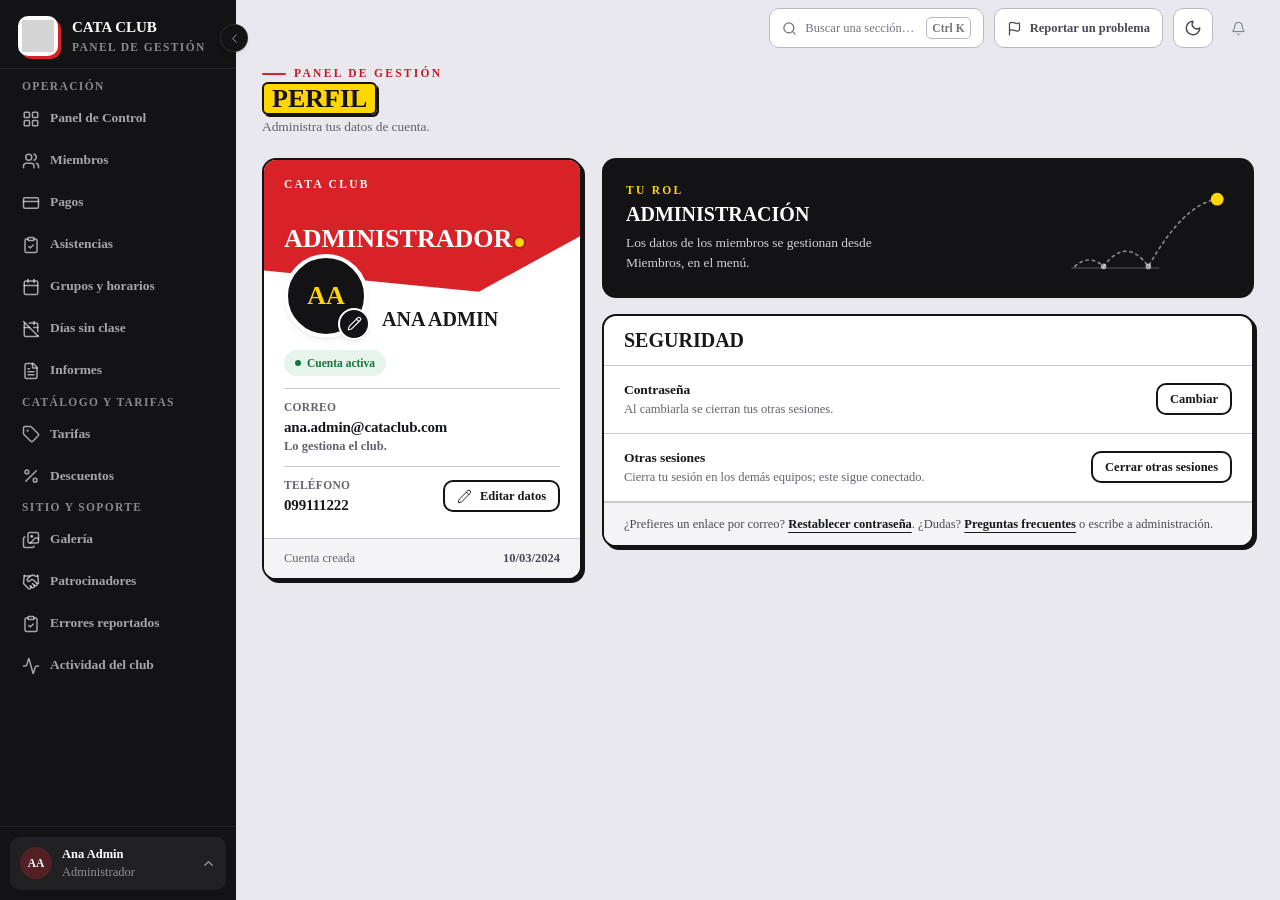
Test: ProfilePage — inline teléfono edit (correo is read-only) › saves a new teléfono and displays the updated value
This screenshot has width=1280, height=900.
Click the button "Editar datos".
click(501, 496)  # box [443,480,560,512]
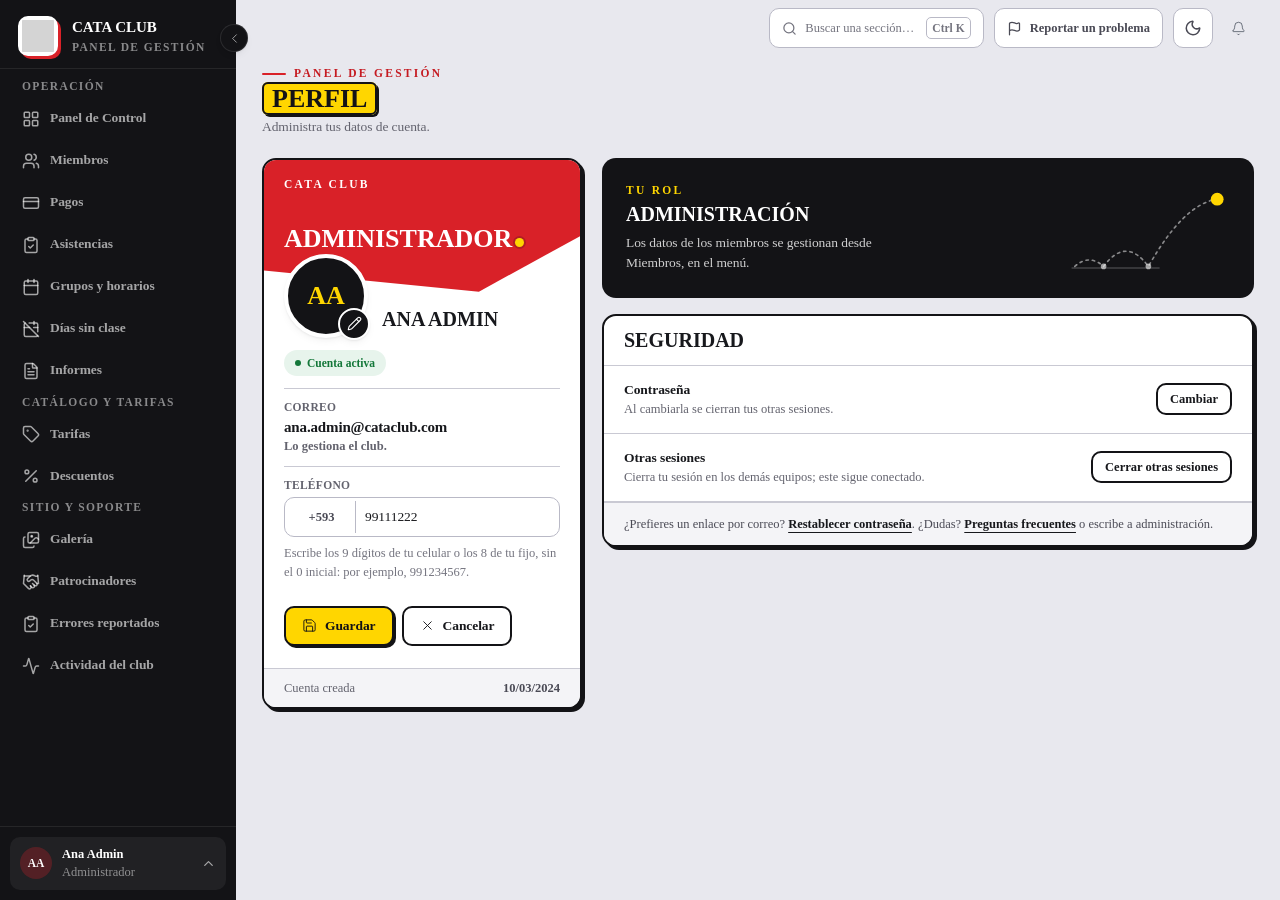
Replace the text in the field named "teléfono" with "0991234567" at (422, 517), box [284,497,560,537]
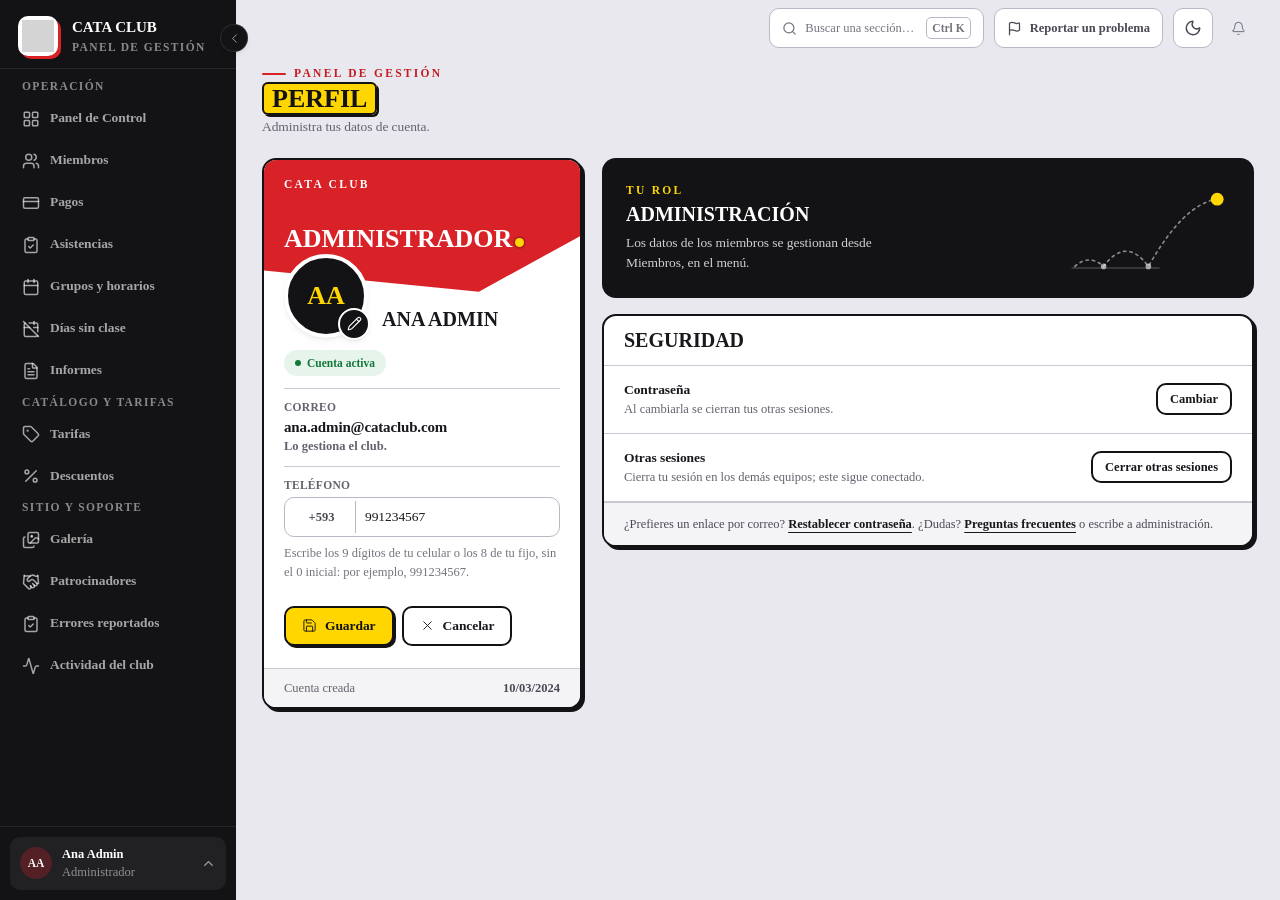
Click the button "Guardar".
click(339, 626)  # box [284,606,394,646]
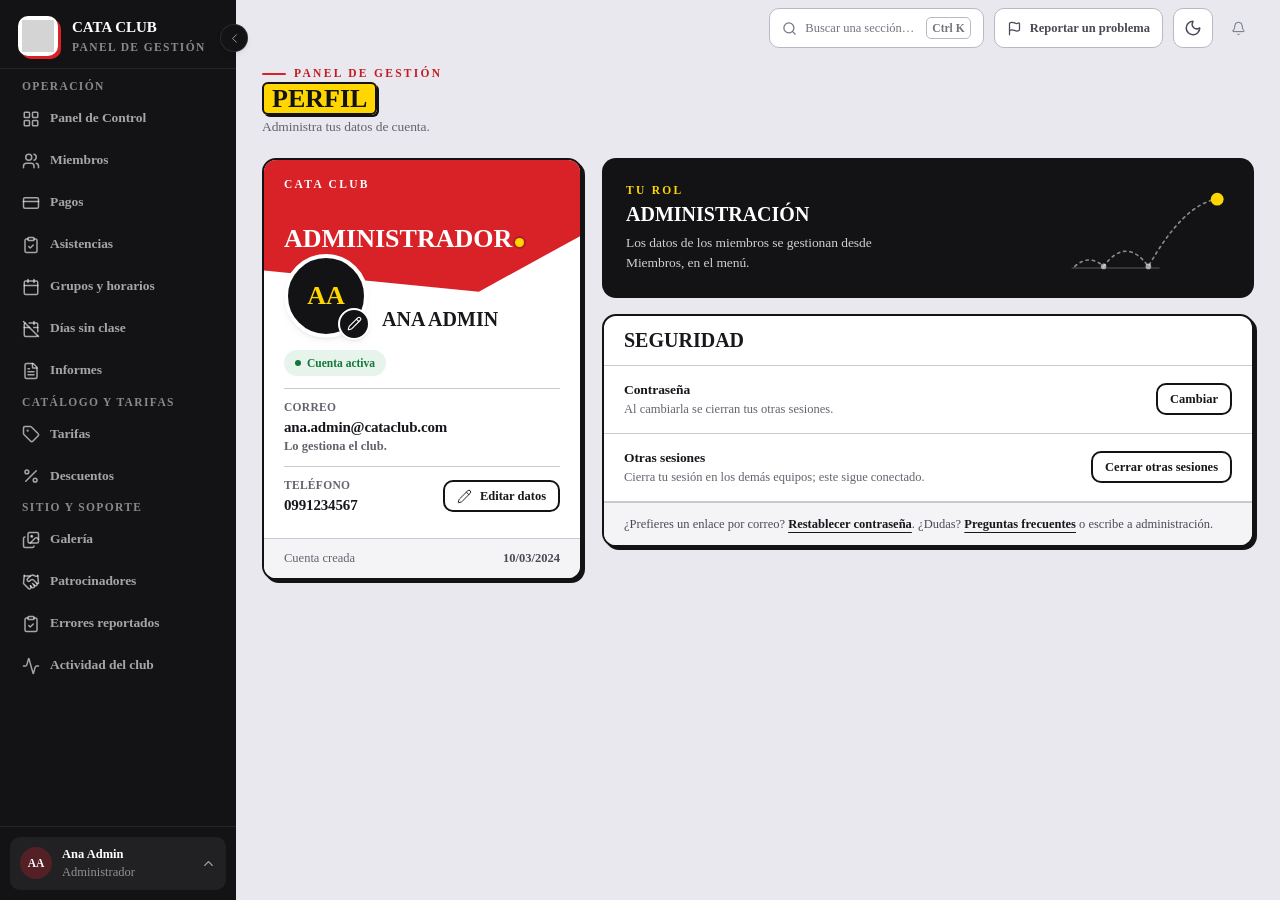
Result: the text "0991234567" is shown at [284,495,358,516]
